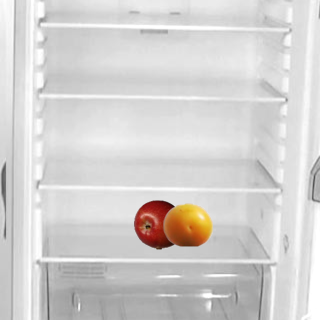Apple Braeburn: (133, 199, 183, 249)
Cherry Wax Yellow: (162, 199, 212, 249)
